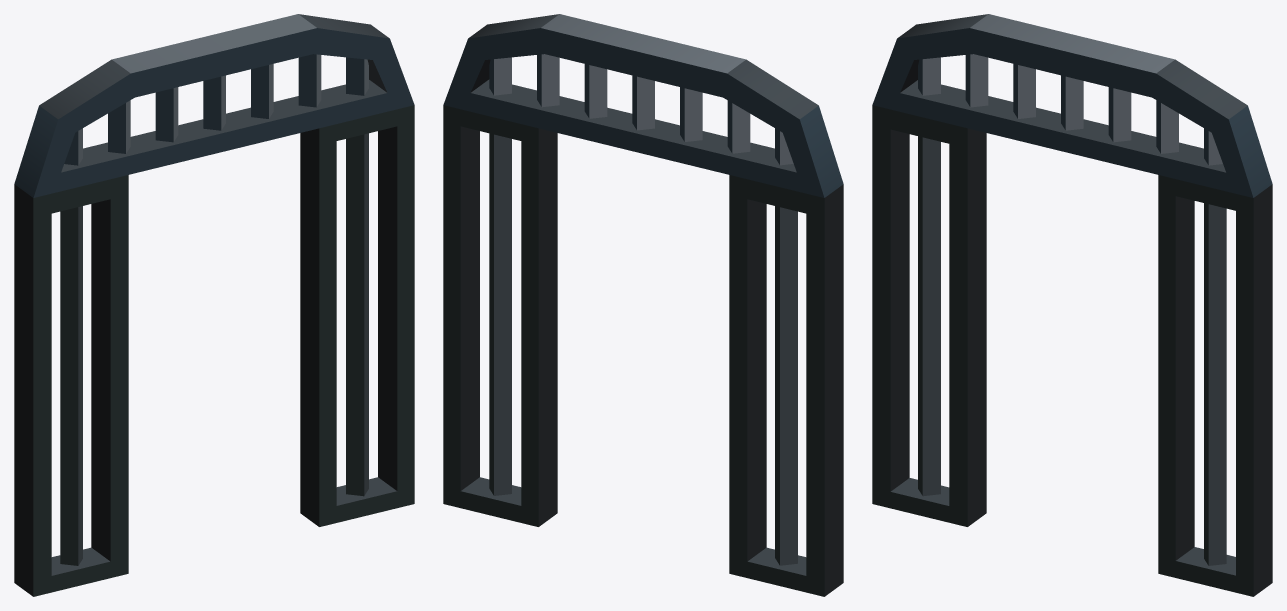
File: jail_bars_arch_with_door_double.fbx
The picture shows the model from 3 angles, left to right: view 1: azimuth 30°, elevation 25°; view 2: azimuth 150°, elevation 25°; view 3: azimuth 330°, elevation 25°; orthographic projection.
Parts seen in each view (by area): view 1: jail_bars_arch_with_door_double; view 2: jail_bars_arch_with_door_double; view 3: jail_bars_arch_with_door_double.
Boxes of the visible parts, x1,y1,x2,y2 form: jail_bars_arch_with_door_double: (14, 14, 414, 596); jail_bars_arch_with_door_double: (443, 14, 843, 596); jail_bars_arch_with_door_double: (872, 14, 1272, 596).
Bounding box in the file's own units: 200 × 251 × 17.42.
